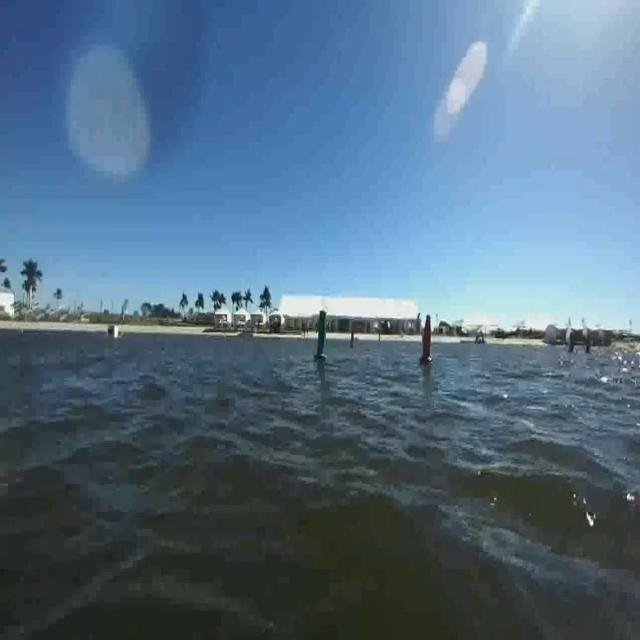green-column-buoy: (314, 308, 330, 362)
red-column-buoy: (420, 314, 436, 368)
